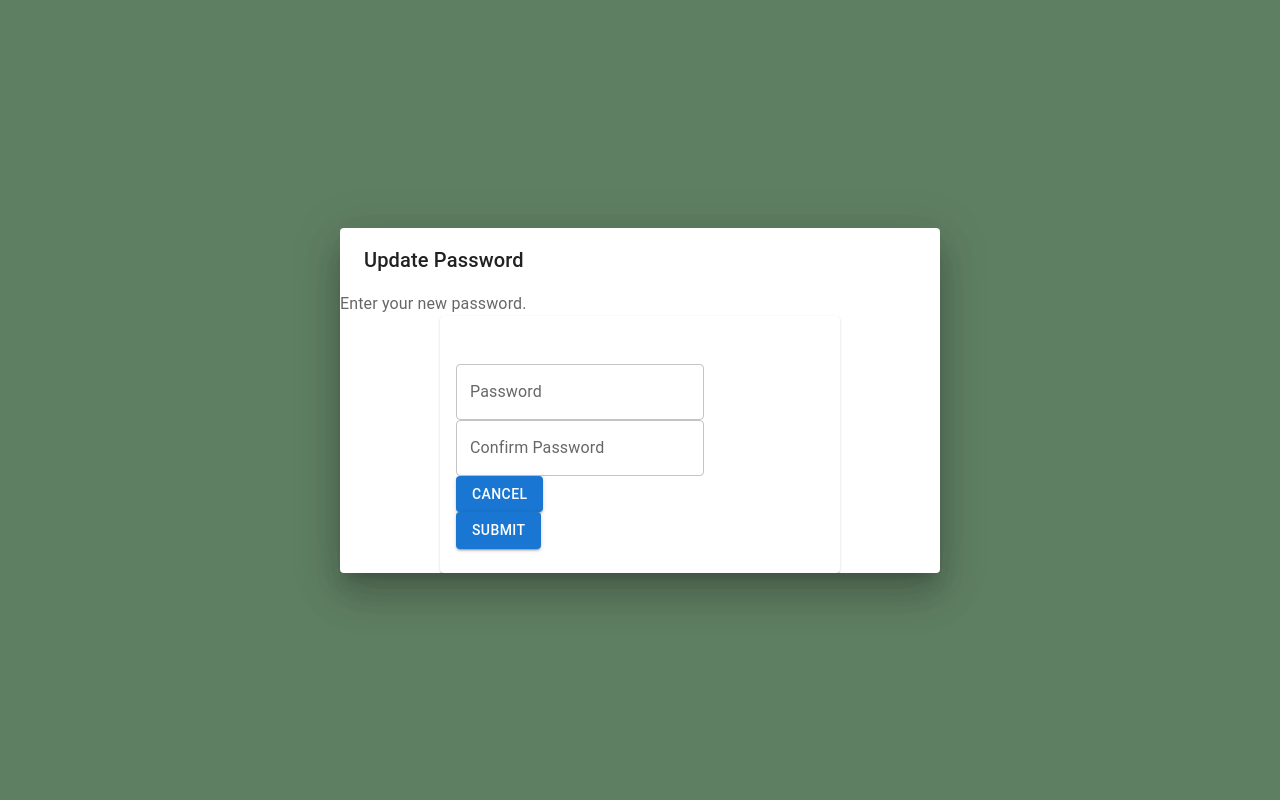
Test: UpdatePasswordDialog › should not attempt to update password and setError if validation is false
This screenshot has width=1280, height=800.
Click the button "Submit": {"x": 499, "y": 530} [456, 512, 541, 548]
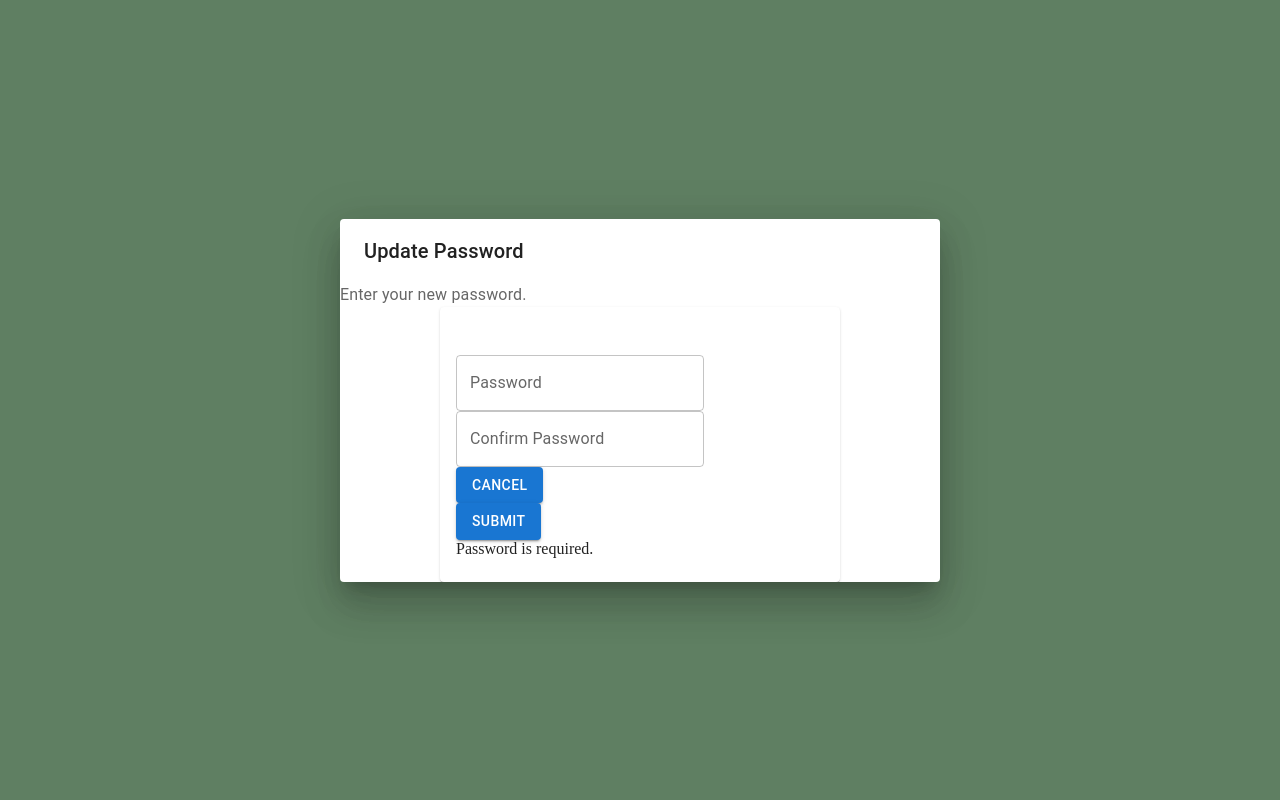
Expected: the text "Password is required." is shown, [456, 540, 593, 556]
